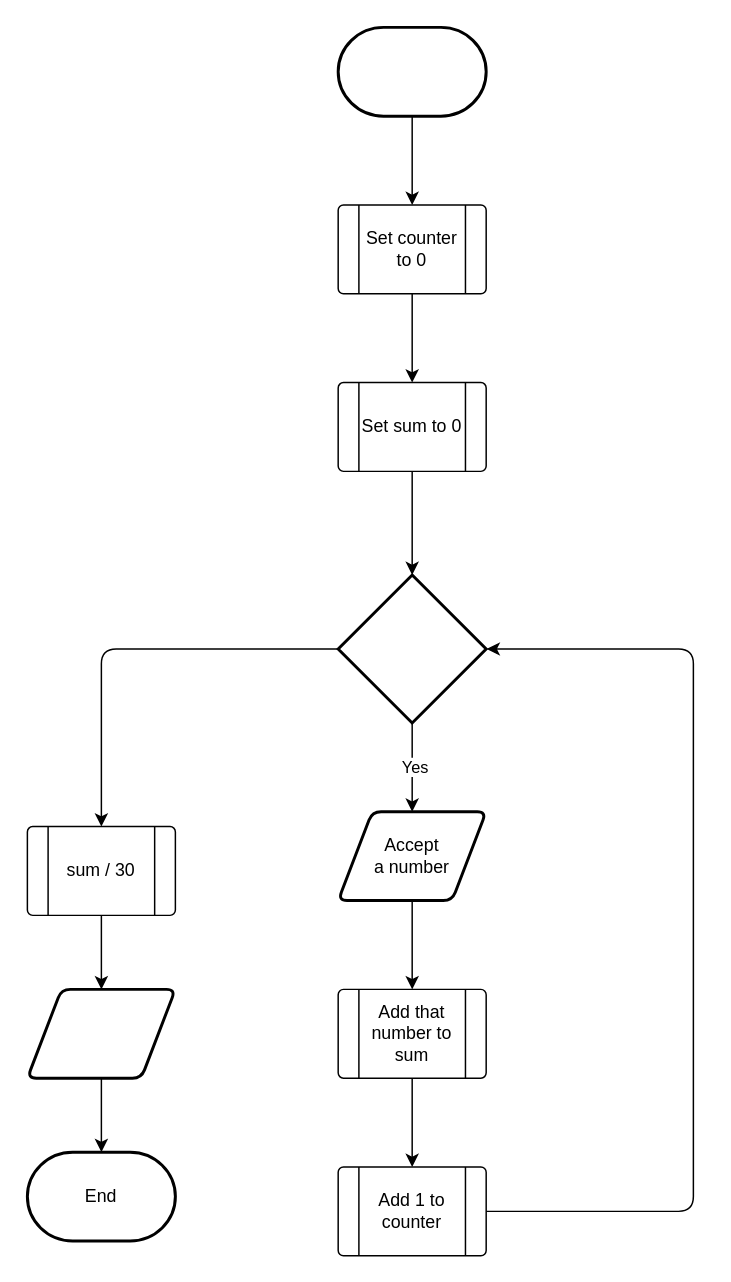
This 731x1282 diagram has some shape labels left out. Each missing label, with the centre of its shape:
Print average: [100,1033]
Start: [411,71]
While counter < 30: [411,648]
